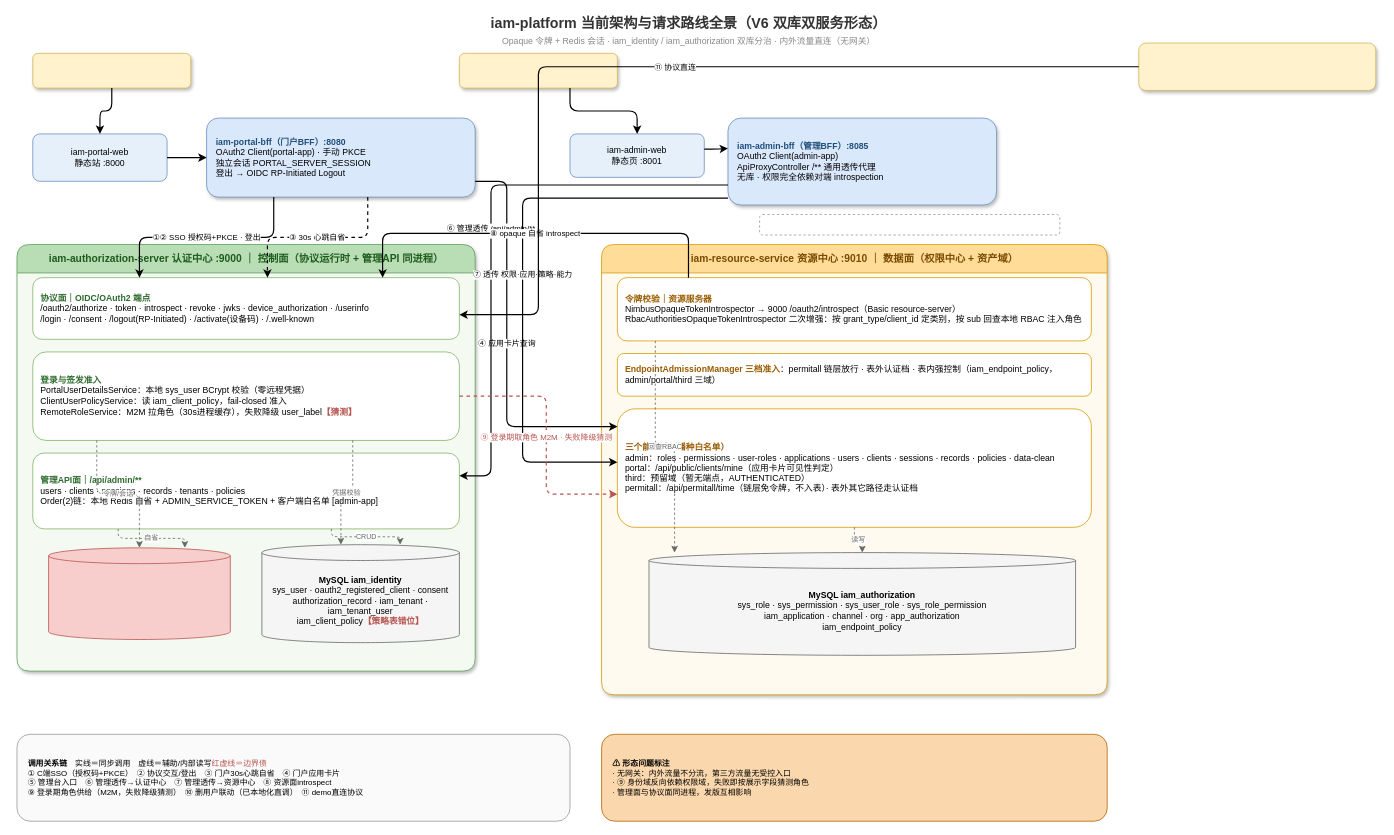
Some shapes in this 1394 by 835 pixel diagram are drawn without their labels. The centre of each missing label's shape, as x and y in pixels:
"C端用户（浏览器）" belongs at pixel 112 71.
"Redis 令牌/授权码/会话 oauth2:auth:* · oauth2:session 撤销即删 key" belongs at pixel 139 593.
"✕ API 网关缺位 —— 内外部流量未分流（开放平台接入的前置缺口）" belongs at pixel 909 224.
"第三方接入方 example demos web-app:8081 · device-app:8082 · mobile-app:8083" belongs at pixel 1258 67.
"运营管理员（浏览器）" belongs at pixel 538 71.
